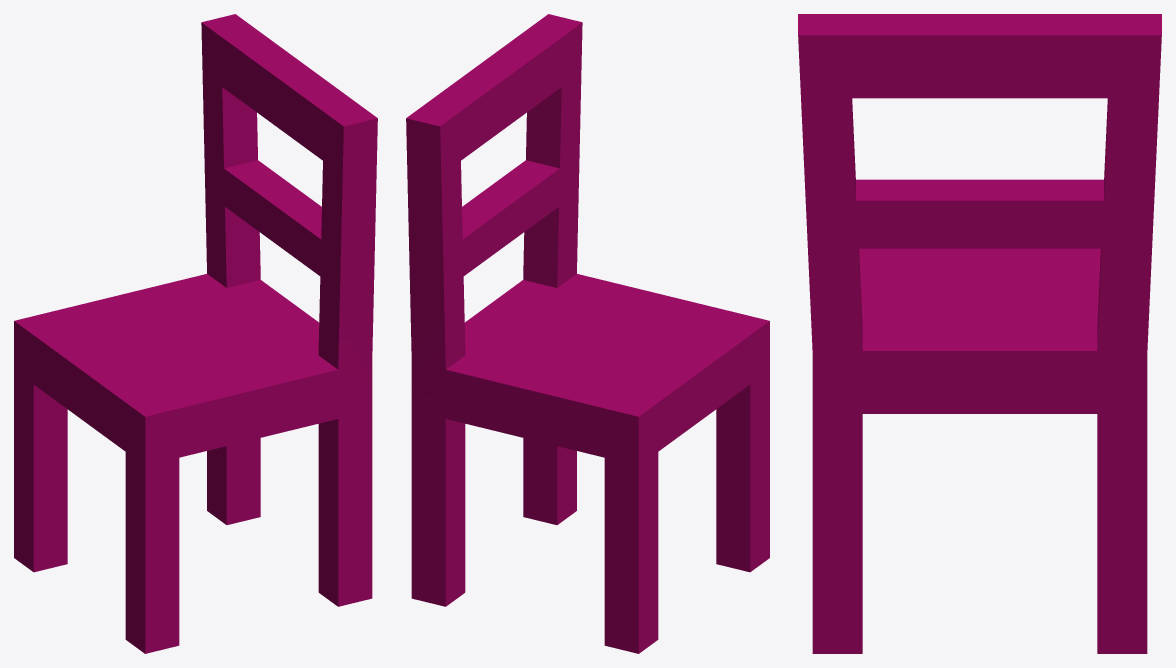
Rendered from chair_low.fbx.
3 views of the same model, side by side, from view 1: azimuth 30°, elevation 25°; view 2: azimuth 150°, elevation 25°; view 3: azimuth 270°, elevation 25° (orthographic). The views are drawn at different scales.
Parts seen in each view (by area): view 1: chair_low; view 2: chair_low; view 3: chair_low.
Part boxes in pixels (<box>): chair_low: <box>14,14,377,653</box>; chair_low: <box>406,14,769,653</box>; chair_low: <box>798,14,1161,653</box>.
Bounding box in the file's own units: 2.28 × 4.65 × 2.48.
